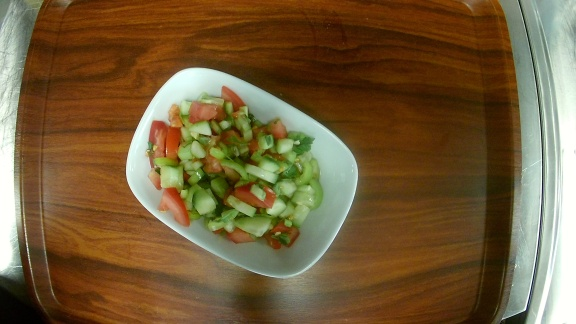cobansalata: (125, 67, 360, 279)
